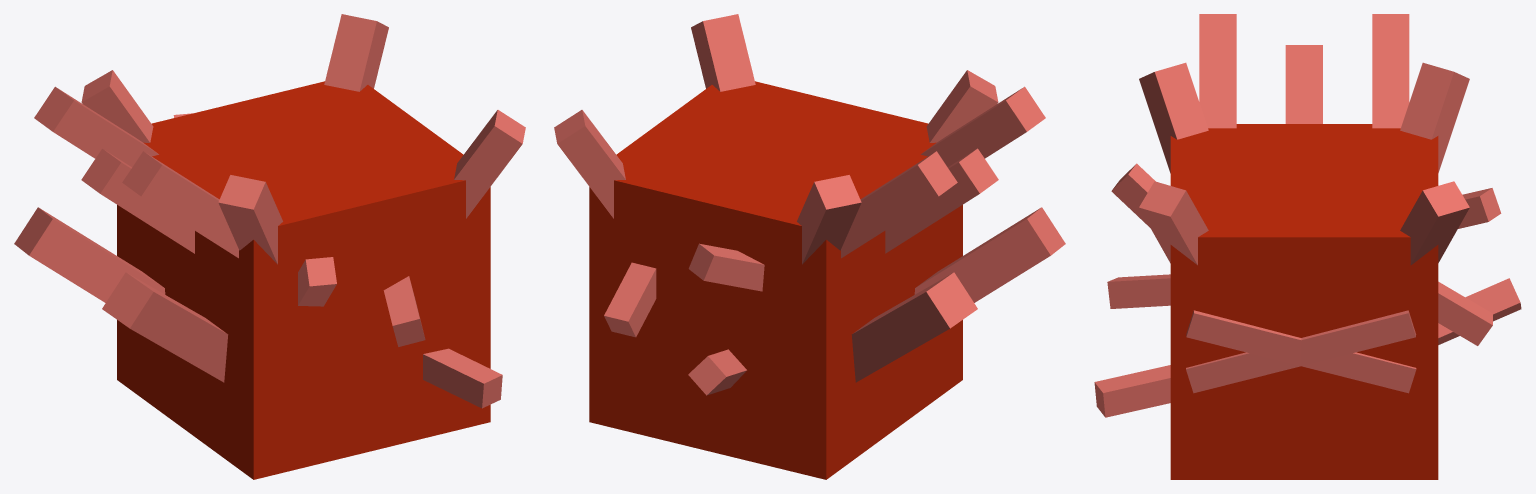
Rendered from cuerpo-cuboPlayer.glb.
3 renders of one model, left to right at view 1: azimuth 30°, elevation 25°; view 2: azimuth 150°, elevation 25°; view 3: azimuth 270°, elevation 25°, orthographic. The views are drawn at different scales.
Parts seen in each view (by area): view 1: Cube; view 2: Cube; view 3: Cube.
Part boxes in pixels (left/top/right/bottom): Cube: left=14, top=14, right=525, bottom=479; Cube: left=554, top=14, right=1065, bottom=479; Cube: left=1094, top=14, right=1521, bottom=479.
Bounding box in the file's own units: 3.31 × 2.61 × 3.19.
